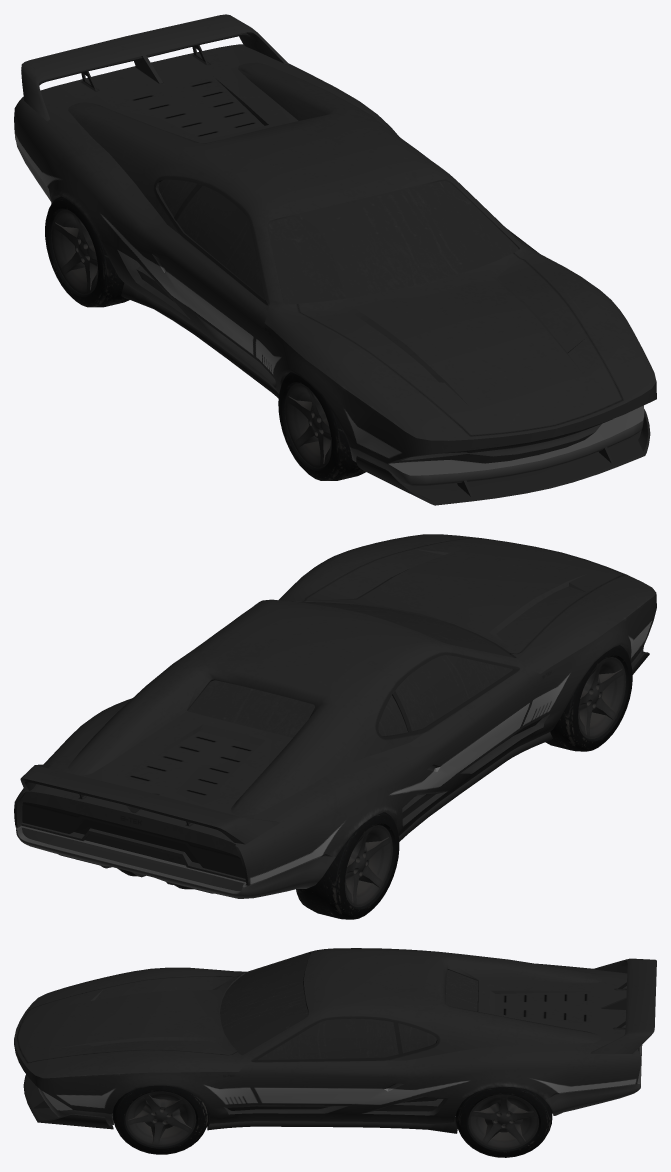
File: car.obj
3 views of the same model, one above another, from view 1: azimuth 30°, elevation 25°; view 2: azimuth 150°, elevation 25°; view 3: azimuth 270°, elevation 25° (orthographic). The views are drawn at different scales.
Visible parts, largest first — view 1: Car_Mesh; view 2: Car_Mesh; view 3: Car_Mesh.
Part boxes in pixels (left/top/right/bottom): Car_Mesh: left=14, top=14, right=656, bottom=505; Car_Mesh: left=14, top=534, right=656, bottom=919; Car_Mesh: left=14, top=948, right=656, bottom=1157.
Bounding box in the file's own units: 2.51 × 1.39 × 6.2.
Materials: 1 (1 with a texture image).
